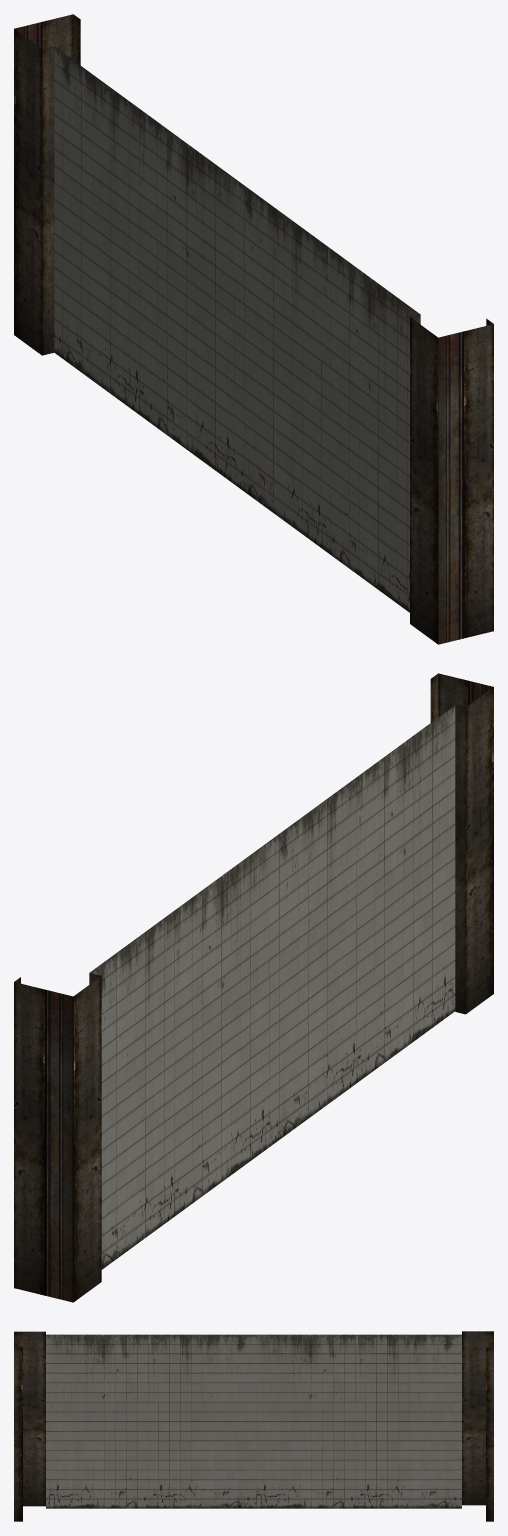
Rendered from MidWallLast.fbx.
3 views of the same model, one above another, from view 1: azimuth 30°, elevation 25°; view 2: azimuth 150°, elevation 25°; view 3: azimuth 270°, elevation 25° (orthographic). The views are drawn at different scales.
Visible parts, largest first — view 1: MidWallLast; view 2: MidWallLast; view 3: MidWallLast.
Part boxes in pixels (left/top/right/bottom): MidWallLast: left=14, top=14, right=493, bottom=644; MidWallLast: left=14, top=673, right=493, bottom=1302; MidWallLast: left=14, top=1331, right=493, bottom=1521.
Bounding box in the file's own units: 74.3 × 367 × 914.
